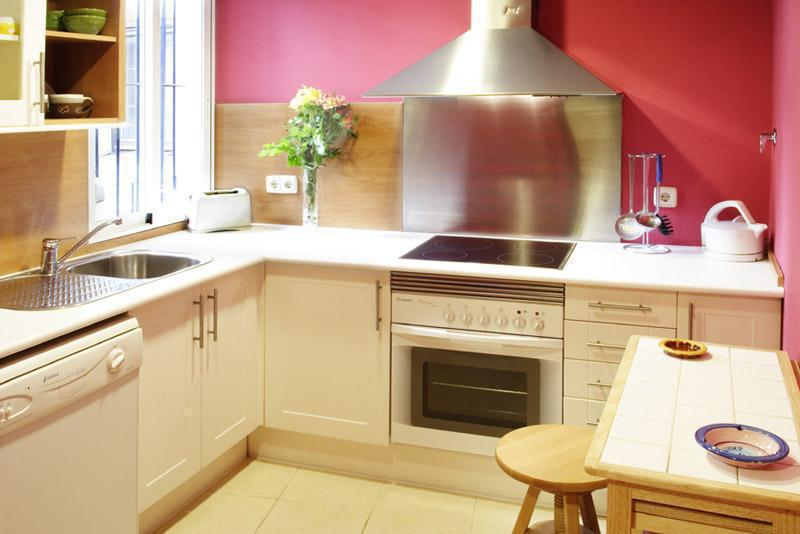Electrodomestico: (393, 258, 567, 448), (4, 316, 135, 530)
Lavaplatos: (3, 212, 212, 313)
